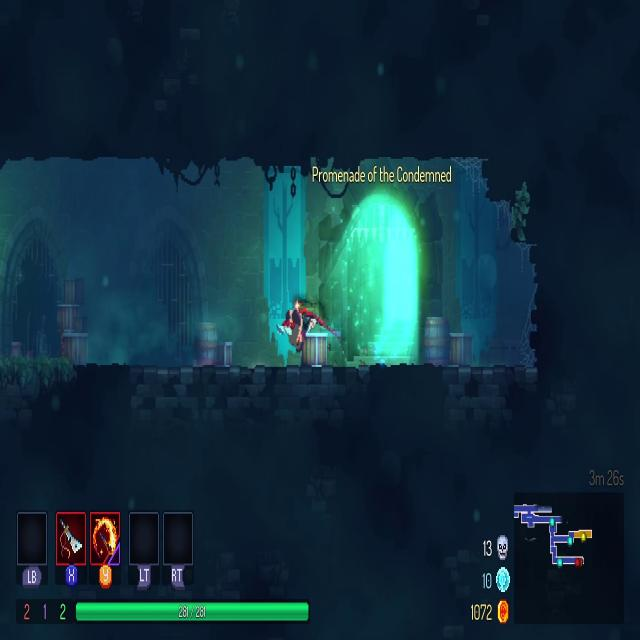agents: (302, 159, 458, 374), (276, 294, 322, 351)
